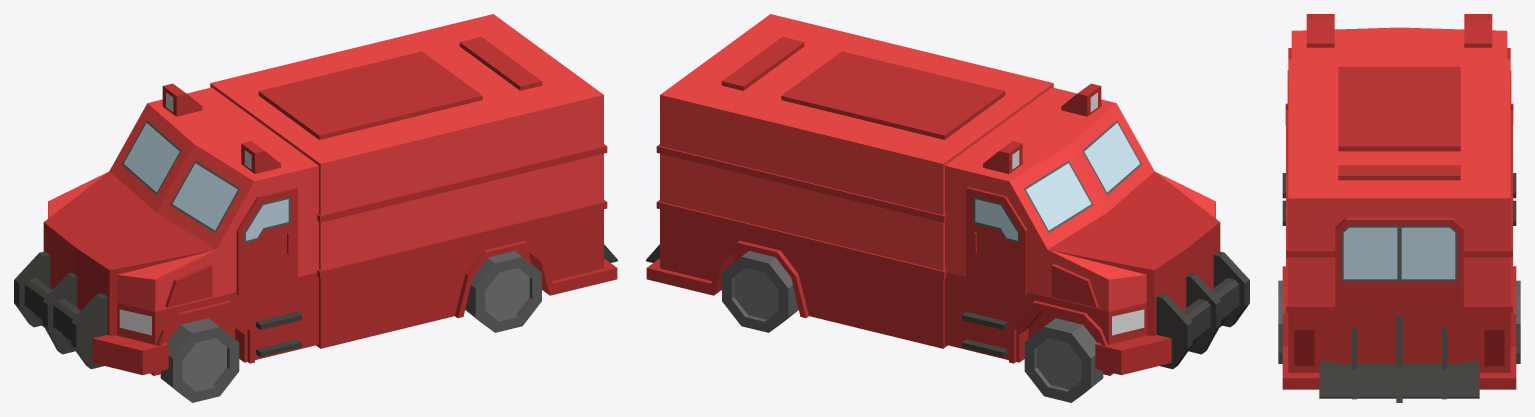
The model's file is Main_Truck_3.fbx.
The picture shows the model from 3 angles, left to right: view 1: azimuth 30°, elevation 25°; view 2: azimuth 150°, elevation 25°; view 3: azimuth 270°, elevation 25°; orthographic projection.
Visible parts, largest first — view 1: Main_Truck_3; view 2: Main_Truck_3; view 3: Main_Truck_3.
Boxes of the visible parts, <box> form: Main_Truck_3: <box>14,14,617,402</box>; Main_Truck_3: <box>646,14,1249,402</box>; Main_Truck_3: <box>1278,14,1520,402</box>.
Bounding box in the file's own units: 10.11 × 3.98 × 3.87.
Materials: 1 (1 with a texture image).
